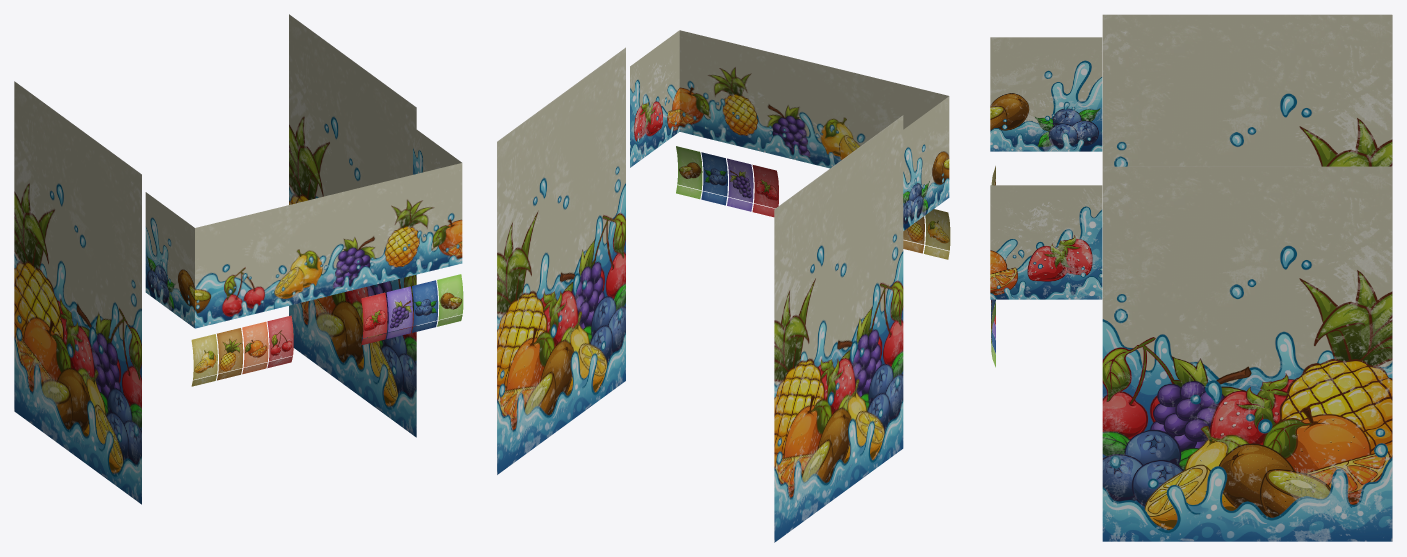
The model's file is Prop_SodaMachine.fbx.
The picture shows the model from 3 angles, left to right: view 1: azimuth 30°, elevation 25°; view 2: azimuth 150°, elevation 25°; view 3: azimuth 270°, elevation 25°; orthographic projection. The views are drawn at different scales.
Parts seen in each view (by area): view 1: Baytek_Mall_Soda_Dispenser; view 2: Baytek_Mall_Soda_Dispenser; view 3: Baytek_Mall_Soda_Dispenser.
Boxes of the visible parts, left/top/right/bottom form: Baytek_Mall_Soda_Dispenser: left=14, top=14, right=463, bottom=504; Baytek_Mall_Soda_Dispenser: left=497, top=30, right=950, bottom=542; Baytek_Mall_Soda_Dispenser: left=990, top=14, right=1392, bottom=541.
Bounding box in the file's own units: 68.15 × 77 × 76.
